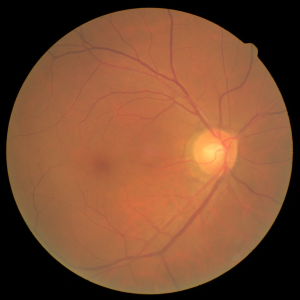cataract: (42, 103, 261, 215)
